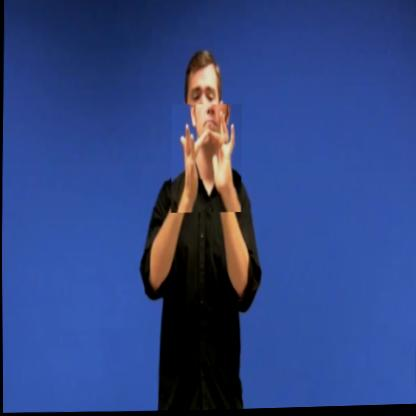Internet: (170, 104, 242, 215)
